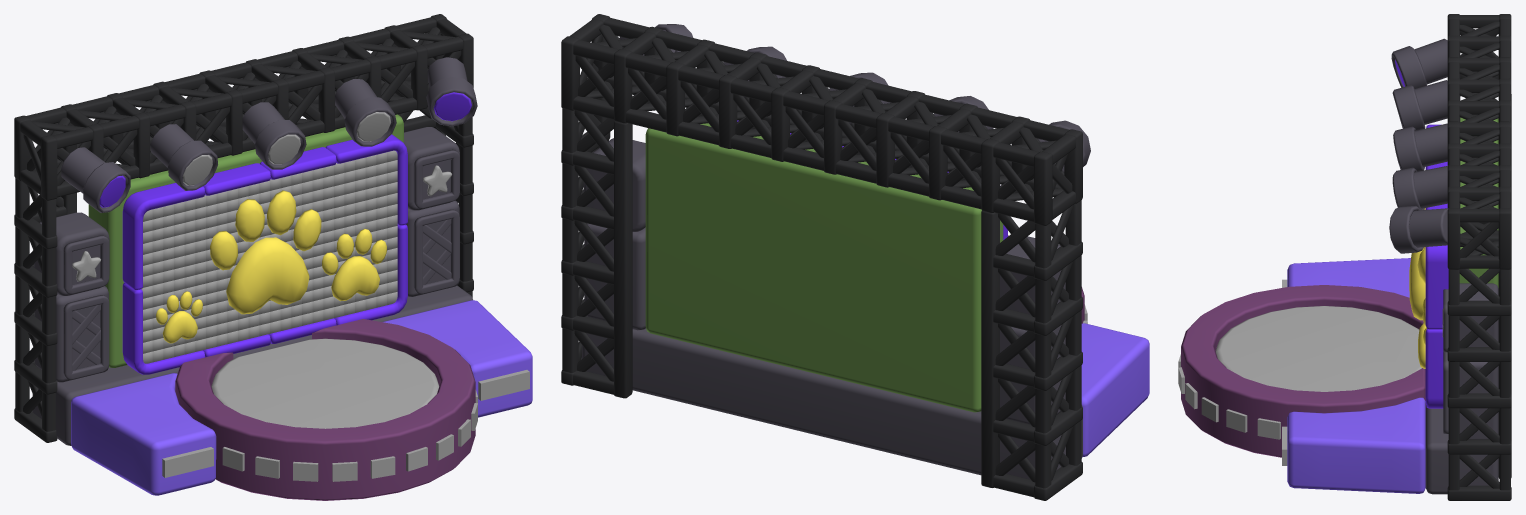
Rendered from ConcertStage.fbx.
3 views of the same model, side by side, from view 1: azimuth 30°, elevation 25°; view 2: azimuth 150°, elevation 25°; view 3: azimuth 270°, elevation 25° (orthographic). The views are drawn at different scales.
Visible parts, largest first — view 1: S_ConcertStage, D_Stage_11, D_Stage_12; view 2: S_ConcertStage; view 3: S_ConcertStage, D_Stage_10, D_Stage_9.
Boxes of the visible parts, x1,y1,x2,y2 form: S_ConcertStage: [14, 14, 532, 500]; D_Stage_11: [162, 447, 213, 477]; D_Stage_12: [478, 370, 529, 400]; S_ConcertStage: [561, 14, 1149, 500]; S_ConcertStage: [1181, 14, 1511, 500]; D_Stage_10: [1257, 418, 1280, 439]; D_Stage_9: [1226, 409, 1247, 432].
Bounding box in the file's own units: 664 × 449 × 468.
